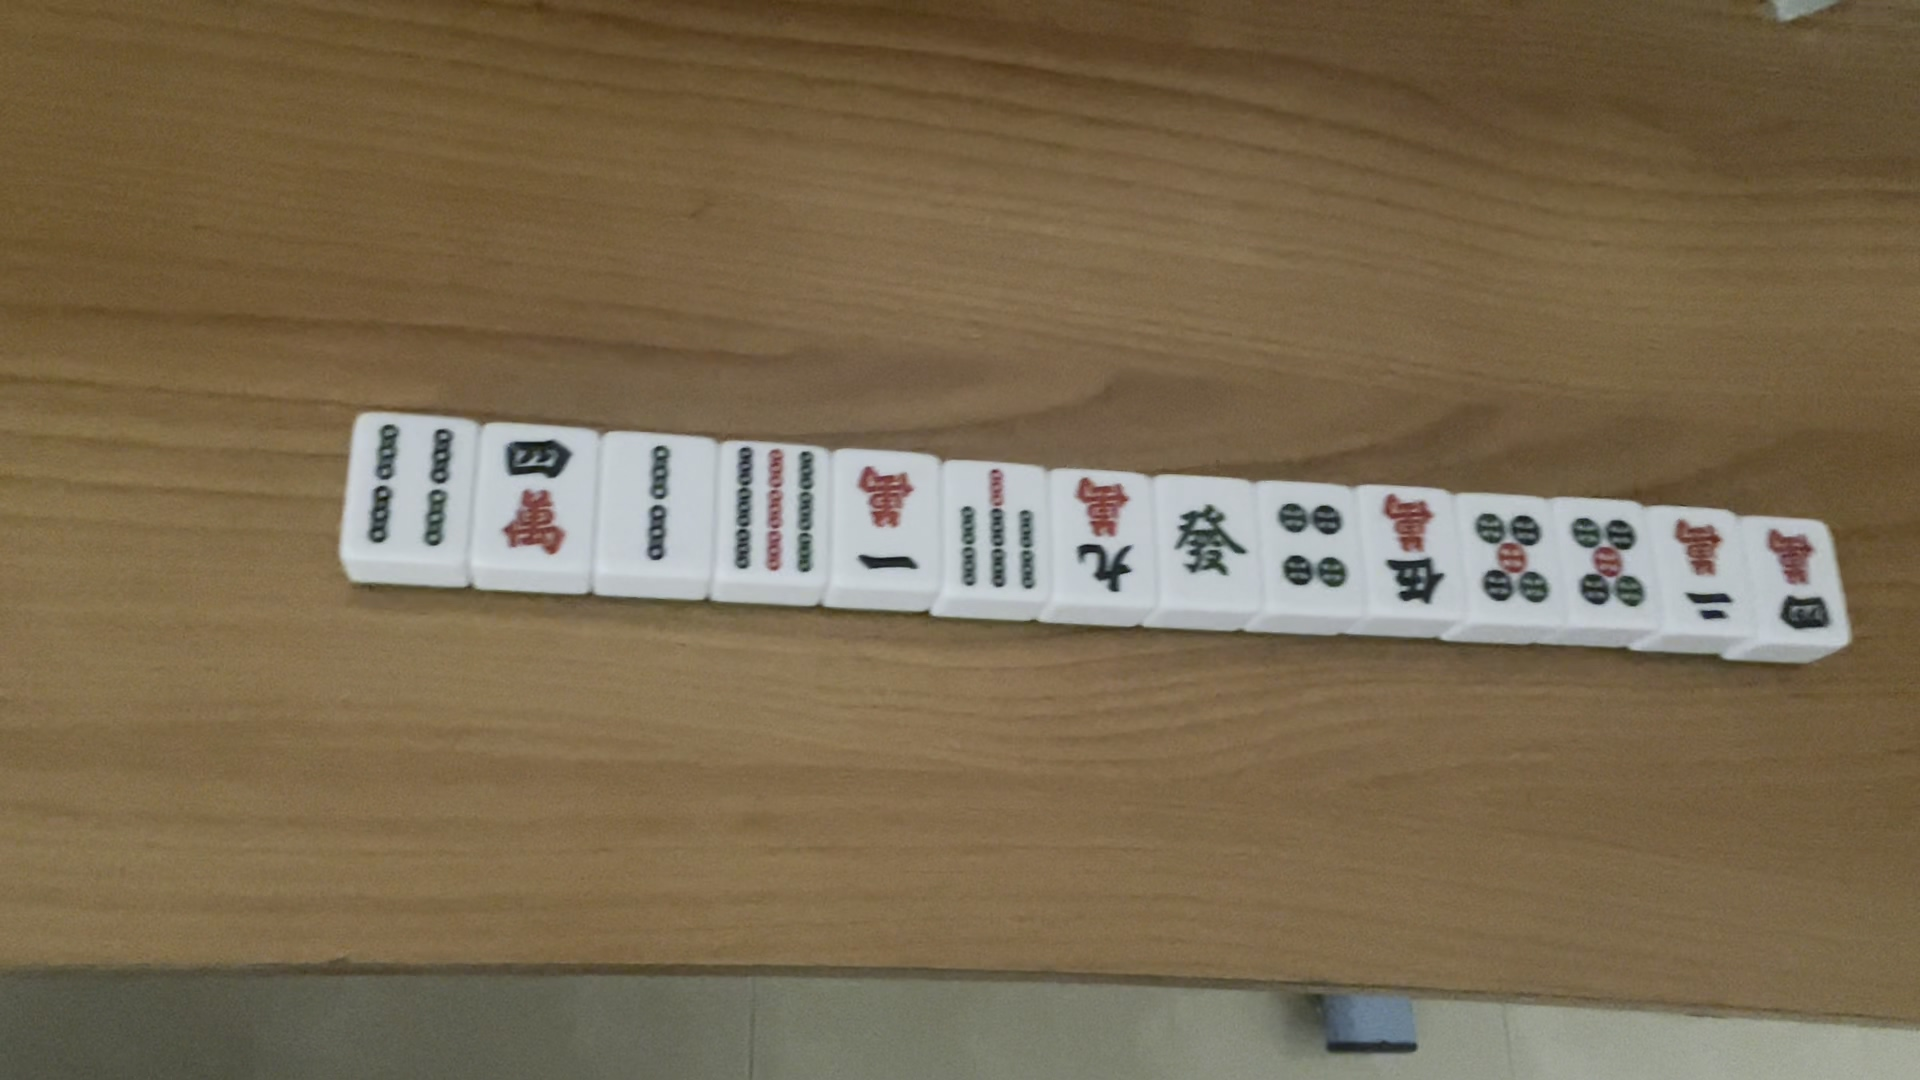b-2: (623, 441, 677, 562)
b-4: (360, 418, 454, 559)
b-7: (952, 462, 1041, 592)
b-9: (728, 447, 813, 573)
c-1: (844, 459, 928, 573)
c-2: (1670, 515, 1738, 631)
c-4: (494, 430, 565, 562), (1758, 524, 1833, 631)
c-5: (1376, 492, 1449, 609)
c-9: (1058, 477, 1142, 592)
d-4: (1277, 493, 1355, 601)
d-5: (1570, 515, 1649, 615), (1474, 504, 1549, 605)
honors-green: (1168, 502, 1248, 589)
